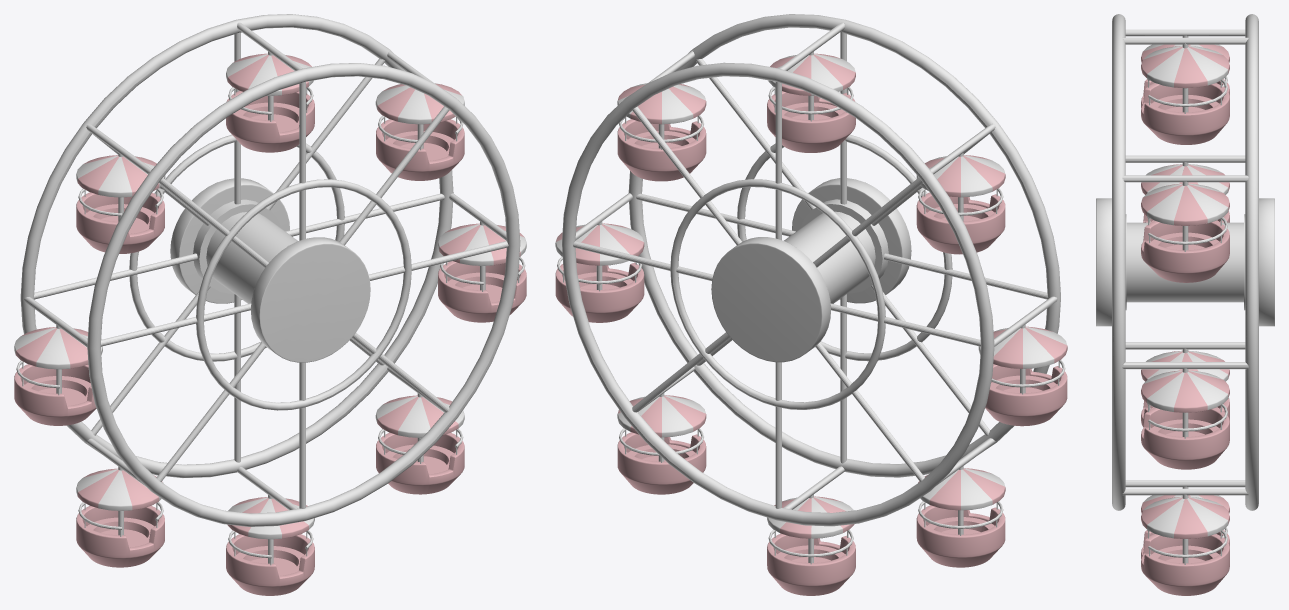
Rendered from Ferris02.glb.
3 renders of one model, left to right at view 1: azimuth 30°, elevation 25°; view 2: azimuth 150°, elevation 25°; view 3: azimuth 270°, elevation 25°, orthographic.
Visible parts, largest first — view 1: FerrisWheel02, F08, F07, F04, F01, F06, F02, F03, F05; view 2: FerrisWheel02, F08, F07, F04, F01, F06, F02, F05, F03; view 3: FerrisWheel02, F03, F02, F04, F05, F08, F07, F06, F01.
Boxes of the visible parts, bbox=[...] form: FerrisWheel02: bbox=[20, 14, 520, 526]; F08: bbox=[76, 466, 164, 567]; F07: bbox=[14, 325, 102, 425]; F04: bbox=[375, 83, 464, 180]; F01: bbox=[226, 495, 314, 595]; F06: bbox=[76, 153, 165, 253]; F02: bbox=[375, 393, 464, 494]; F03: bbox=[438, 221, 526, 322]; F05: bbox=[226, 51, 314, 152]; FerrisWheel02: bbox=[562, 14, 1060, 526]; F08: bbox=[916, 466, 1005, 567]; F07: bbox=[978, 324, 1067, 426]; F04: bbox=[617, 83, 706, 181]; F01: bbox=[767, 494, 855, 595]; F06: bbox=[916, 153, 1005, 254]; F02: bbox=[617, 393, 706, 494]; F05: bbox=[767, 51, 855, 152]; F03: bbox=[555, 221, 644, 322]; FerrisWheel02: bbox=[1096, 14, 1274, 510]; F03: bbox=[1141, 368, 1229, 469]; F02: bbox=[1141, 494, 1229, 595]; F04: bbox=[1141, 181, 1229, 282]; F05: bbox=[1141, 43, 1229, 144]; F08: bbox=[1141, 348, 1229, 426]; F07: bbox=[1141, 162, 1229, 222]; F06: bbox=[1141, 35, 1229, 107]; F01: bbox=[1141, 486, 1229, 558].
Size of the model in its own units: 2.6 by 2.67 by 0.8056.
